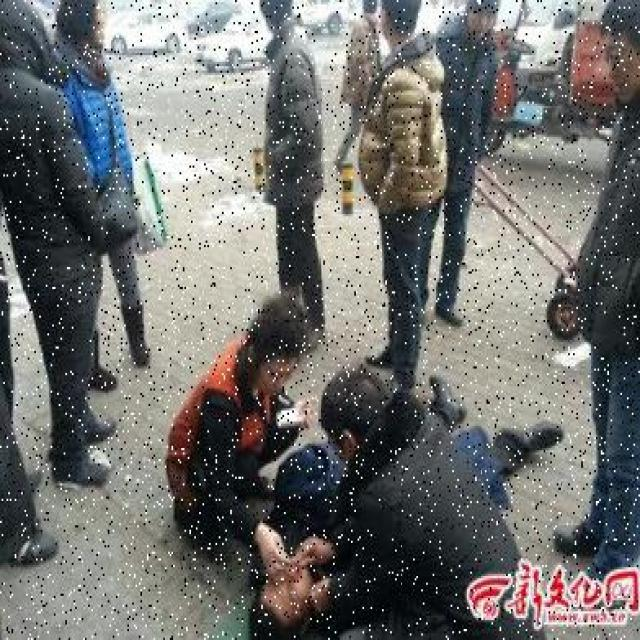fall: (234, 384, 546, 627)
